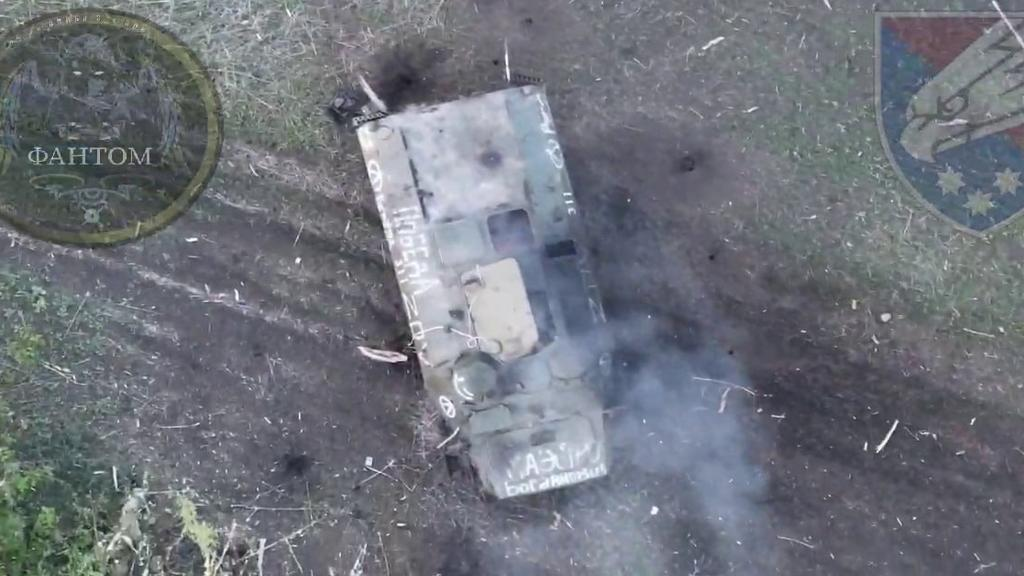APC-IFV: (348, 40, 617, 500)
